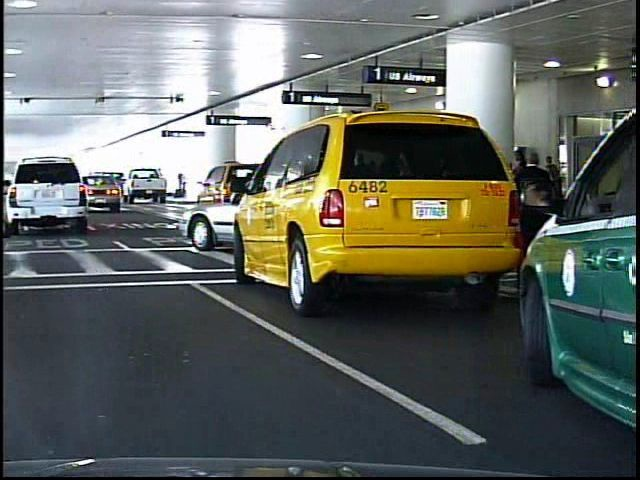person: (510, 149, 554, 282), (177, 169, 184, 198)
